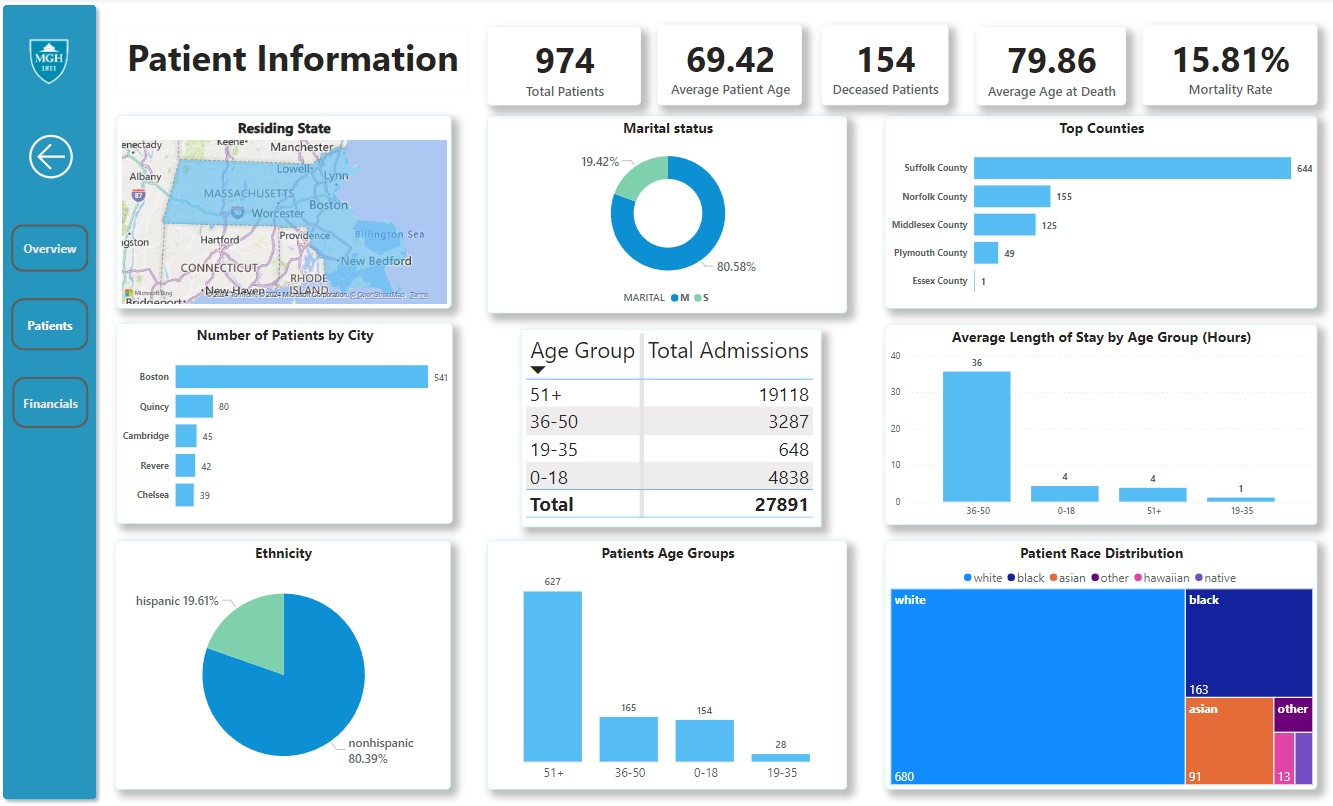

The page's visual inventory and layout, read from the dashboard file:
{"tool":"powerbi","page":{"name":"Patient Information","canvas":[1814,1086],"ordinal":1},"visuals":[{"type":"shape","box":[0,0,143.9,1085.4],"z":0},{"type":"actionButton","box":[36.9,172.9,73.9,80.6],"z":1000},{"type":"clusteredBarChart","title":"Number of Patients by City","fields":{"Category":["patients.CITY"],"Y":["CountNonNull(patients.CITY)"]},"box":[160.9,436.9,452.1,269.2],"z":2000},{"type":"clusteredBarChart","title":"Top Counties","fields":{"Category":["patients.COUNTY"],"Y":["CountNonNull(patients.COUNTY)"]},"box":[1193.8,157.5,580.8,259.1],"z":3000},{"type":"columnChart","title":"Patients Age Groups","fields":{"Category":["patients.Age Group"],"Y":["CountNonNull(patients.Age Group)"]},"box":[659.7,728.5,483.4,334],"z":4000},{"type":"columnChart","title":"Average Length of Stay by Age Group (Hours)","fields":{"Y":["patients.Average Length of Stay by Age Group"],"Category":["patients.Age Group"]},"box":[1193.8,438.6,580.8,269.2],"z":5000},{"type":"textbox","box":[161.1,38.6,473.3,89],"z":6000},{"type":"actionButton","box":[20.1,303.8,104.1,63.8],"z":7000},{"type":"actionButton","box":[20.1,402.8,104.1,70.5],"z":8000},{"type":"actionButton","box":[21.8,508.6,102.4,68.8],"z":9000},{"type":"card","fields":{"Values":["patients.Average Age at Death"]},"box":[1316,38.6,201.4,105.7],"z":10000},{"type":"pieChart","title":"Ethnicity","fields":{"Category":["patients.ETHNICITY"],"Y":["CountNonNull(patients.ETHNICITY)"]},"box":[159.5,728.5,451.5,334],"z":11000},{"type":"donutChart","title":"Marital status","fields":{"Category":["patients.MARITAL"],"Y":["CountNonNull(patients.MARITAL)"]},"box":[659.7,157.8,483.4,265.2],"z":12000},{"type":"filledMap","title":"Residing State","fields":{"Category":["patients.STATE"]},"box":[160.9,157.5,450.4,259.1],"z":13000},{"type":"image","box":[6.7,26.9,129.2,117.5],"z":14000},{"type":"treemap","title":"Patient Race Distribution","fields":{"Values":["CountNonNull(patients.RACE)"],"Group":["patients.RACE"]},"box":[1193.4,728.5,580.8,334],"z":15000},{"type":"card","fields":{"Values":["patients.Deceased Patients"]},"box":[1107.8,35.2,171.2,109.1],"z":16000},{"type":"card","fields":{"Values":["patients.Mortality Rate"]},"box":[1539.2,35.2,235,109.1],"z":17000},{"type":"card","fields":{"Values":["patients.Average Patient Age"]},"box":[887.9,35.2,194.7,109.1],"z":18000},{"type":"card","fields":{"Values":["encounters.Total Patients"]},"box":[659.7,38.6,206.5,105.7],"z":19000},{"type":"tableEx","title":"Admissions by Age Group","fields":{"Values":["patients.Age Group","encounters.Number of Admissions"]},"box":[705,444.8,402.8,265.2],"z":20000}]}

Visuals, with their boxes on the page's 1814x1086 design canvas (x1, y1, x2, y2). These are canvas units, not pixel positions in the 1333x806 screenshot, which may show the page scaled, cropped or inside an application window:
shape: left=0, top=0, right=144, bottom=1085
actionButton: left=37, top=173, right=111, bottom=254
"Number of Patients by City" clusteredBarChart: left=161, top=437, right=613, bottom=706
"Top Counties" clusteredBarChart: left=1194, top=158, right=1775, bottom=417
"Patients Age Groups" columnChart: left=660, top=728, right=1143, bottom=1062
"Average Length of Stay by Age Group (Hours)" columnChart: left=1194, top=439, right=1775, bottom=708
textbox: left=161, top=39, right=634, bottom=128
actionButton: left=20, top=304, right=124, bottom=368
actionButton: left=20, top=403, right=124, bottom=473
actionButton: left=22, top=509, right=124, bottom=577
card - patients.Average Age at Death: left=1316, top=39, right=1517, bottom=144
"Ethnicity" pieChart: left=160, top=728, right=611, bottom=1062
"Marital status" donutChart: left=660, top=158, right=1143, bottom=423
"Residing State" filledMap: left=161, top=158, right=611, bottom=417
image: left=7, top=27, right=136, bottom=144
"Patient Race Distribution" treemap: left=1193, top=728, right=1774, bottom=1062
card - patients.Deceased Patients: left=1108, top=35, right=1279, bottom=144
card - patients.Mortality Rate: left=1539, top=35, right=1774, bottom=144
card - patients.Average Patient Age: left=888, top=35, right=1083, bottom=144
card - encounters.Total Patients: left=660, top=39, right=866, bottom=144
"Admissions by Age Group" tableEx: left=705, top=445, right=1108, bottom=710
